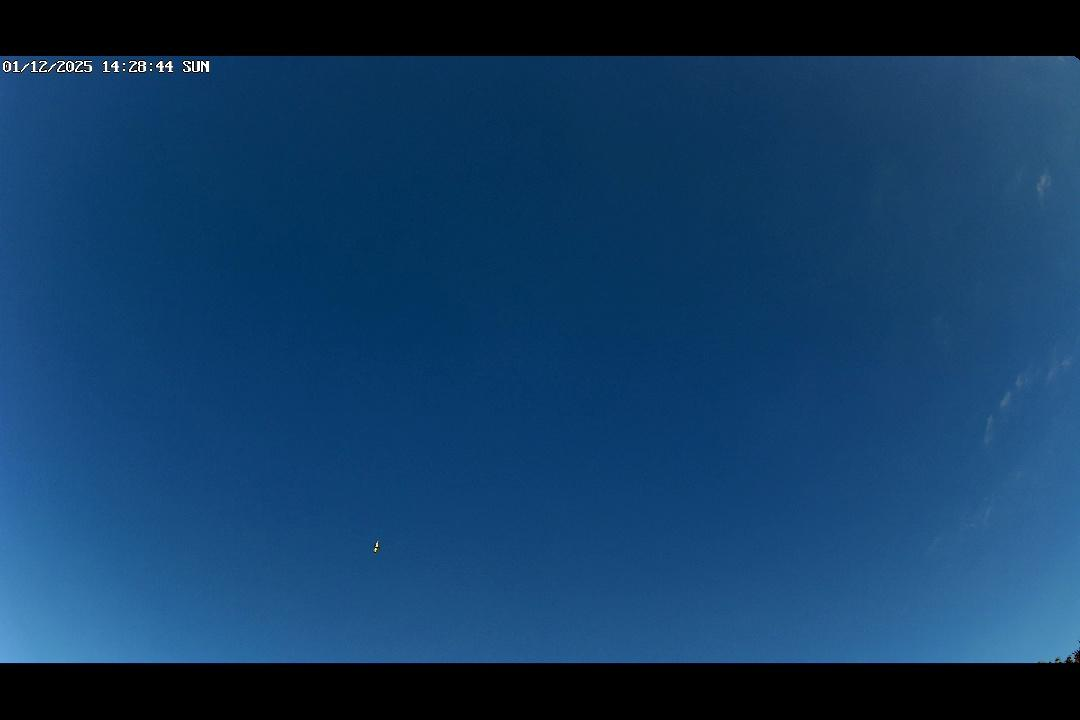WildLife: (365, 531, 392, 556)
